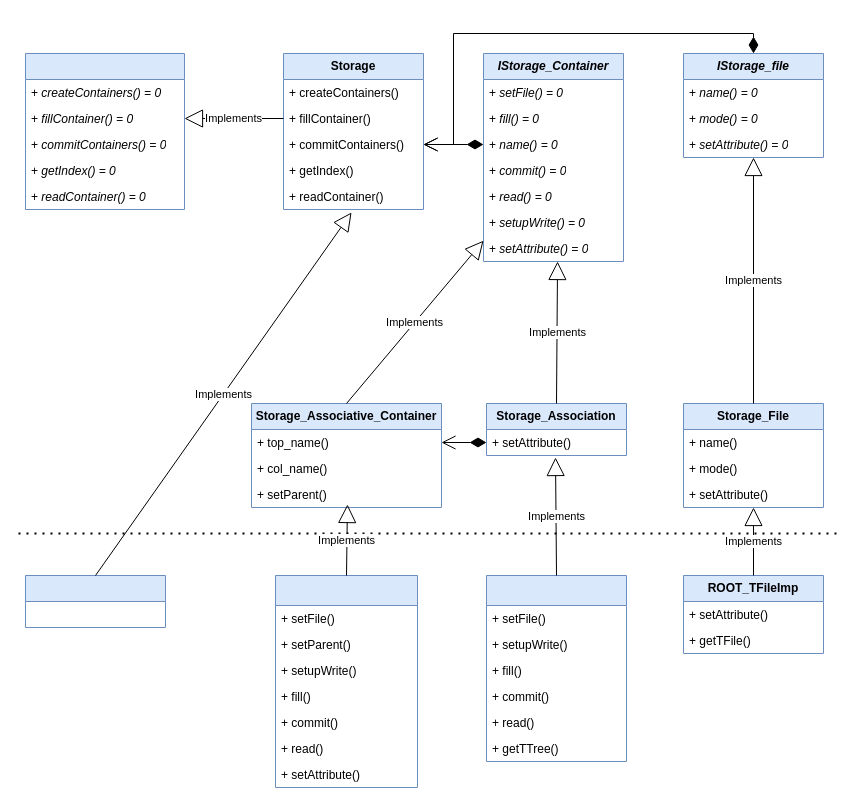
Image size: 857x808. Some labels were removed from this diagram. The box of each missing label's shape, as (x1, y1, x2, y2) in pixels:
IStorage: (24, 52, 184, 210)
ROOT_Storage: (24, 574, 166, 628)
ROOT_TBranch_ ContainerImp: (274, 574, 418, 788)
ROOT_TTree_ ContainerImp: (486, 574, 626, 762)
